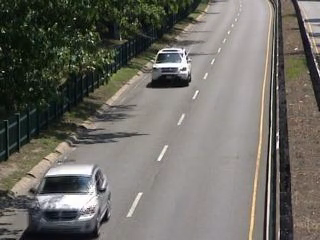car: (23, 160, 116, 238), (151, 45, 193, 91)
